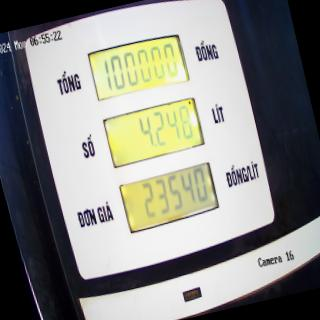screen: (84, 25, 224, 238)
